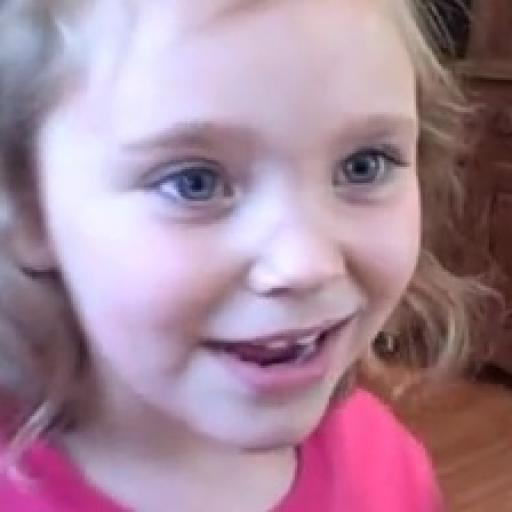Autism: (30, 12, 505, 512)
